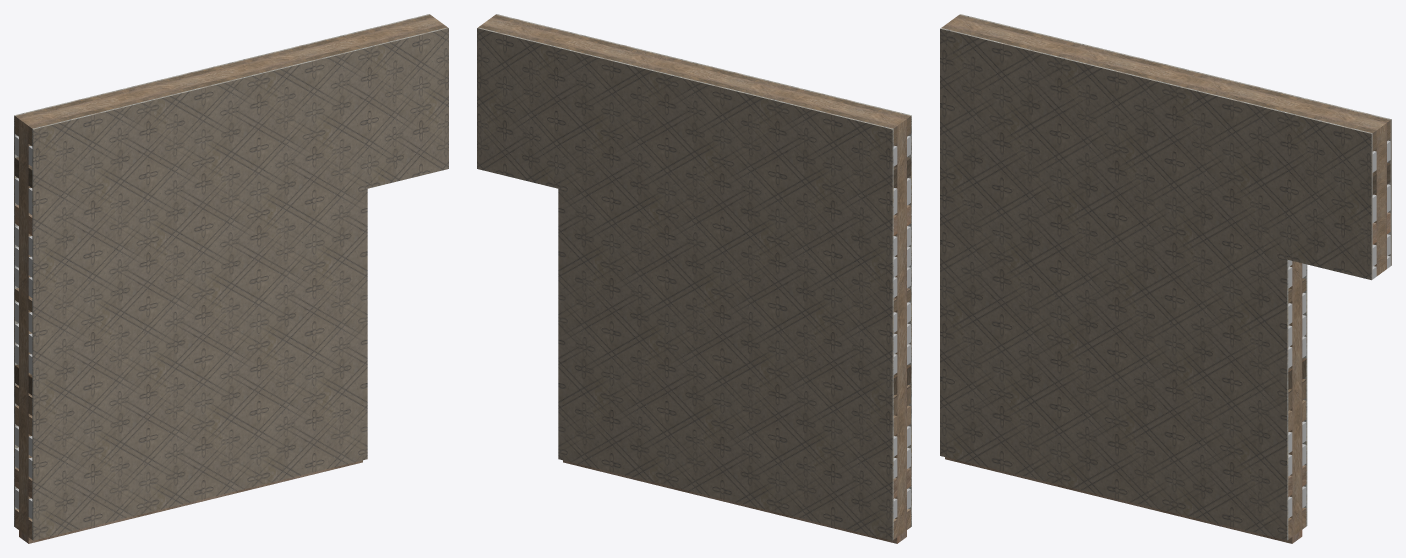
Rendered from WallPeiceDoorwayJ.fbx.
3 renders of one model, left to right at view 1: azimuth 30°, elevation 25°; view 2: azimuth 150°, elevation 25°; view 3: azimuth 330°, elevation 25°, orthographic. The views are drawn at different scales.
Parts seen in each view (by area): view 1: WallPeiceDoorwayJ; view 2: WallPeiceDoorwayJ; view 3: WallPeiceDoorwayJ.
Part boxes in pixels (x1,y1,x2,y2): WallPeiceDoorwayJ: [14, 14, 448, 543]; WallPeiceDoorwayJ: [477, 14, 911, 543]; WallPeiceDoorwayJ: [940, 14, 1391, 543].
Bounding box in the file's own units: 389 × 374 × 31.37.
